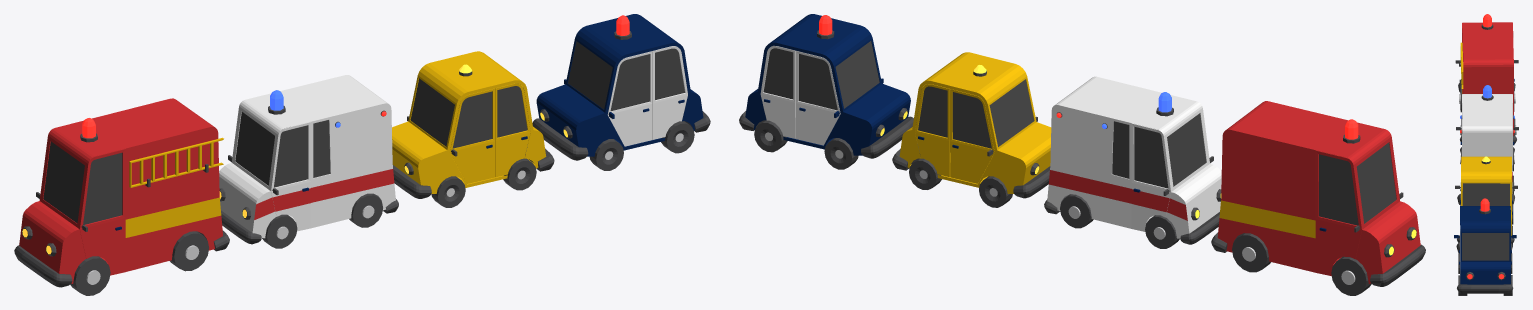
File: uploads_files_4144991_GroupCars.fbx
3 views of the same model, side by side, from view 1: azimuth 30°, elevation 25°; view 2: azimuth 150°, elevation 25°; view 3: azimuth 270°, elevation 25° (orthographic). The views are drawn at different scales.
Parts seen in each view (by area): view 1: Fire truck, Ambulance, policeCar, TaxiCar, While-LF, WhileBack, While-LF.002, WhileBack.002, while-LF, whileBack, While-LF.001, WhileBack.001; view 2: Fire truck, Ambulance, policeCar, TaxiCar, While-RF, WhileBack, While-RF.002, WhileBack.002, while-RF, whileBack, While-RF.001, WhileBack.001; view 3: policeCar, Fire truck, Ambulance, TaxiCar, whileBack, While-LF.
Boxes of the visible parts, <box> form: Fire truck: <box>14,98,229,287</box>; Ambulance: <box>219,75,398,244</box>; policeCar: <box>532,14,710,160</box>; TaxiCar: <box>392,51,554,198</box>; While-LF: <box>70,256,110,295</box>; WhileBack: <box>170,231,208,271</box>; While-LF.002: <box>262,214,297,248</box>; WhileBack.002: <box>349,193,382,227</box>; while-LF: <box>589,139,623,170</box>; whileBack: <box>661,120,694,153</box>; While-LF.001: <box>431,176,465,207</box>; WhileBack.001: <box>503,158,536,190</box>; Fire truck: <box>1211,101,1425,286</box>; Ambulance: <box>1044,76,1221,244</box>; policeCar: <box>739,14,913,158</box>; TaxiCar: <box>892,52,1051,198</box>; While-RF: <box>1331,256,1371,295</box>; WhileBack: <box>1232,233,1270,272</box>; While-RF.002: <box>1145,215,1179,248</box>; WhileBack.002: <box>1060,194,1093,228</box>; while-RF: <box>824,138,858,169</box>; whileBack: <box>754,119,787,152</box>; While-RF.001: <box>979,176,1012,207</box>; WhileBack.001: <box>909,157,941,189</box>; policeCar: <box>1454,198,1516,293</box>; Fire truck: <box>1455,14,1518,144</box>; Ambulance: <box>1456,85,1518,196</box>; TaxiCar: <box>1455,156,1517,244</box>; whileBack: <box>1458,275,1512,295</box>; While-LF: <box>1459,85,1461,112</box>.
Size of the model in its own units: 2709 by 619 by 358.
